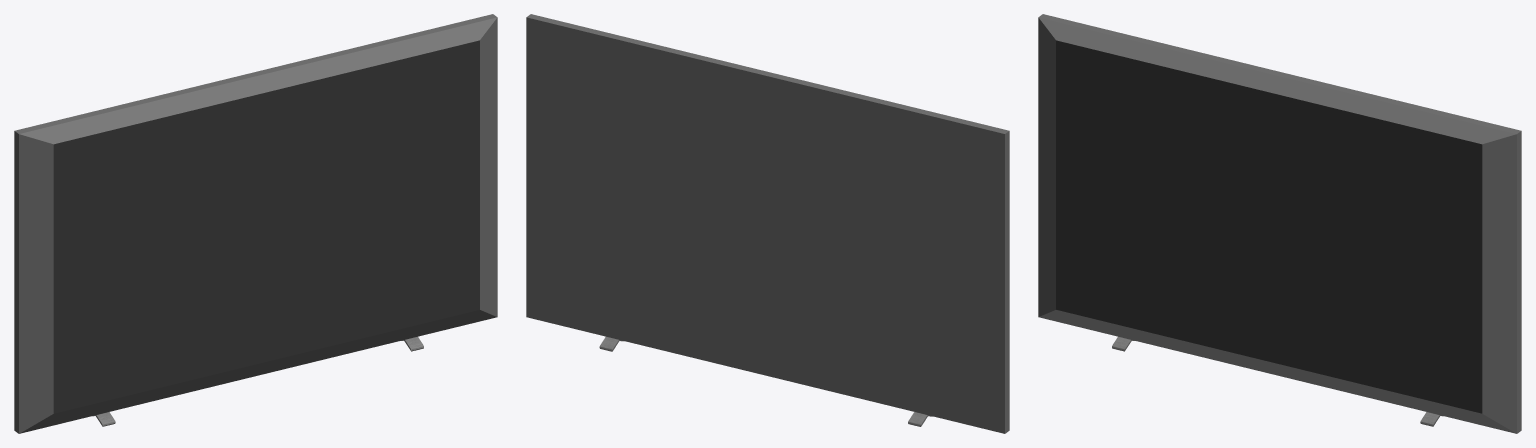
Rendered from tvWTextures.fbx.
3 renders of one model, left to right at view 1: azimuth 30°, elevation 25°; view 2: azimuth 150°, elevation 25°; view 3: azimuth 330°, elevation 25°, orthographic.
Visible parts, largest first — view 1: Tv; view 2: Tv; view 3: Tv.
Part boxes in pixels (x1,y1,x2,y2): Tv: (14,14,497,433); Tv: (526,14,1009,433); Tv: (1038,14,1521,433).
Bounding box in the file's own units: 40 × 24.64 × 2.68.
4 materials, 1 textured.
